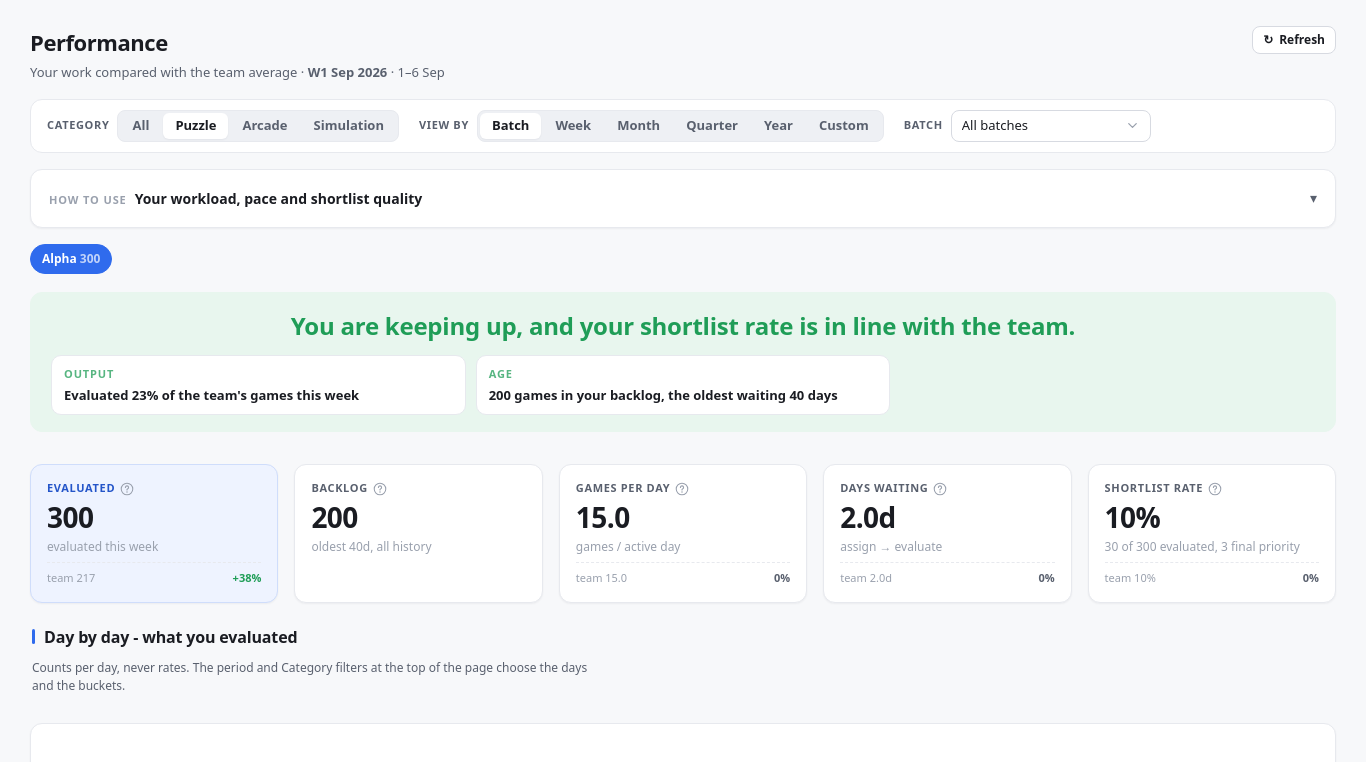
Test: Individual tab, read by a contractor › tells the contractor which block the window filter does not reach, in their own voice
Click the button "How to use Your workload, pace and shortlist quality ▾" at [88, 199], box [49,188,1317,208]
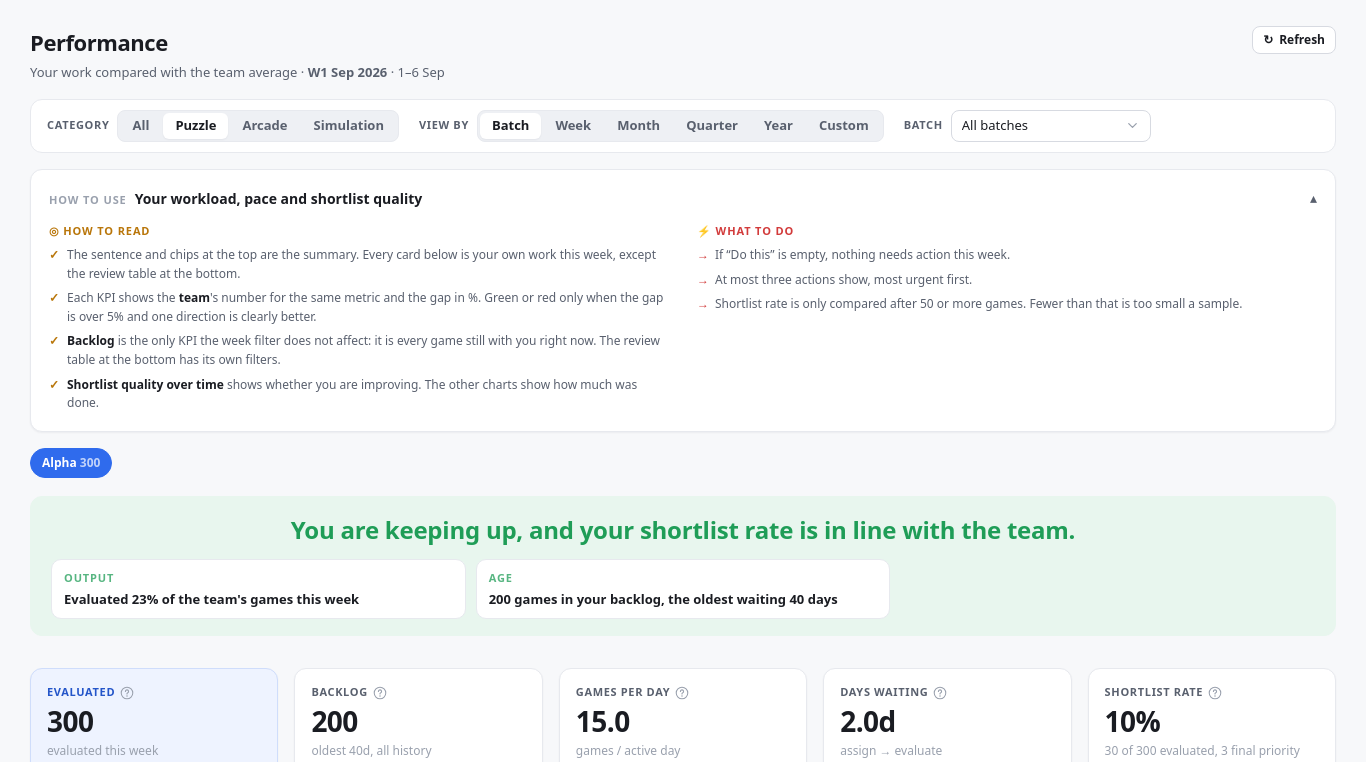
Check: the element with class "read" shows "Every card below is your own work this week, except the review table at the bottom.", box [49,218,669,413]
Check: the element with class "read" shows "Backlog is the only KPI the week filter does not affect", box [49,218,669,413]
Check: the element with class "read" shows "The review table at the bottom has its own filters.", box [67,332,660,368]
